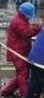boots: (19, 94, 37, 98), (37, 94, 44, 98)
hard-hat: (18, 1, 35, 18)
ppe-suit: (0, 13, 43, 98)
